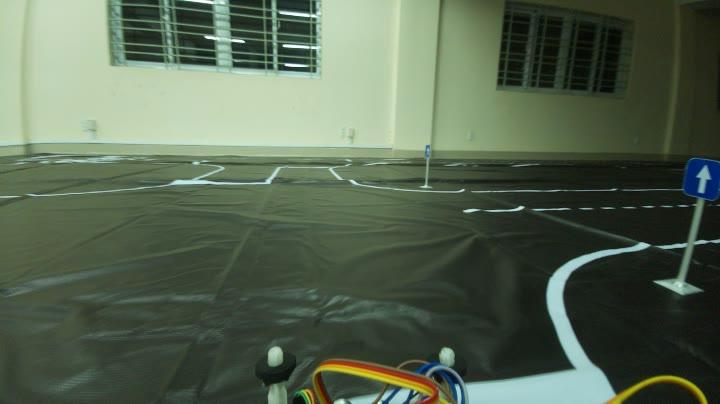onewayroad: (685, 160, 720, 198), (424, 142, 432, 160)
